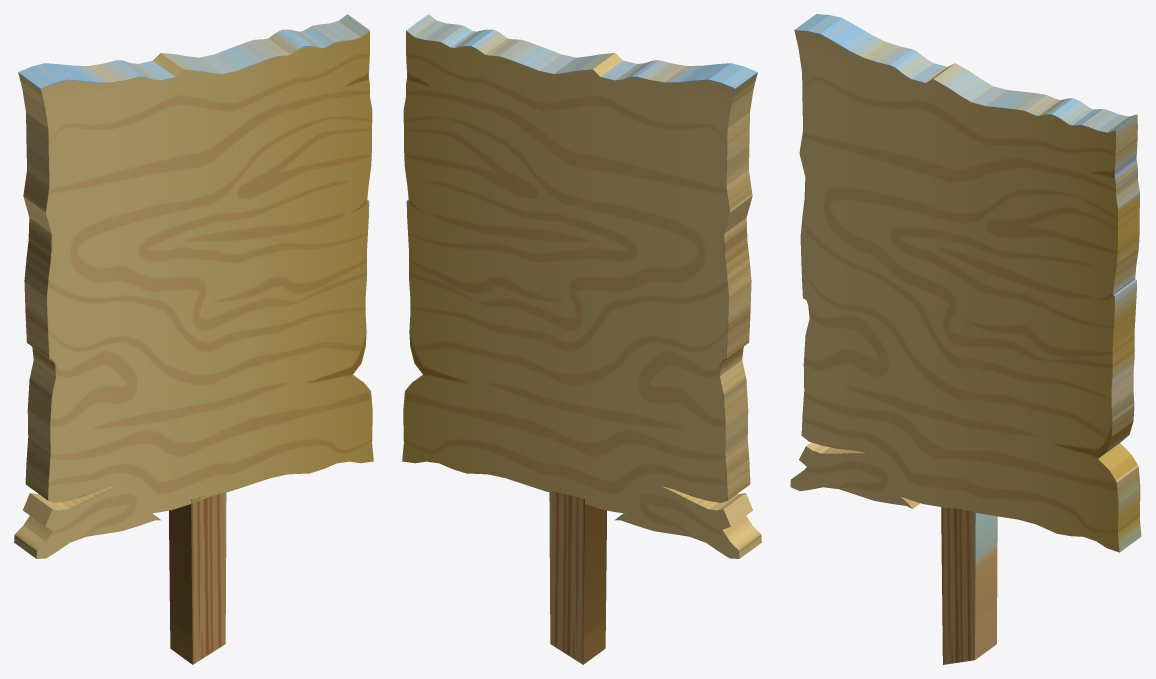
The model's file is Sign.fbx.
3 renders of one model, left to right at view 1: azimuth 30°, elevation 25°; view 2: azimuth 150°, elevation 25°; view 3: azimuth 330°, elevation 25°, orthographic. The views are drawn at different scales.
Visible parts, largest first — view 1: Sign; view 2: Sign; view 3: Sign.
Boxes of the visible parts, box(x1,y1,x2,y2) form: Sign: box(14, 14, 373, 664); Sign: box(402, 14, 761, 664); Sign: box(790, 14, 1141, 664).
Size of the model in its own units: 195 by 340 by 22.43.
